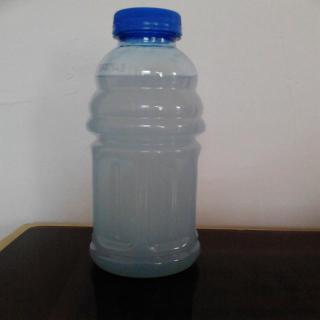Anorganik: (88, 2, 208, 278)
